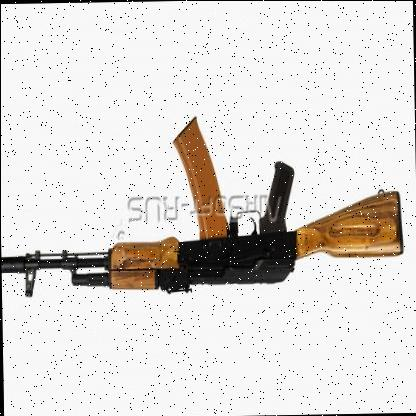rifle: (0, 98, 407, 319)
